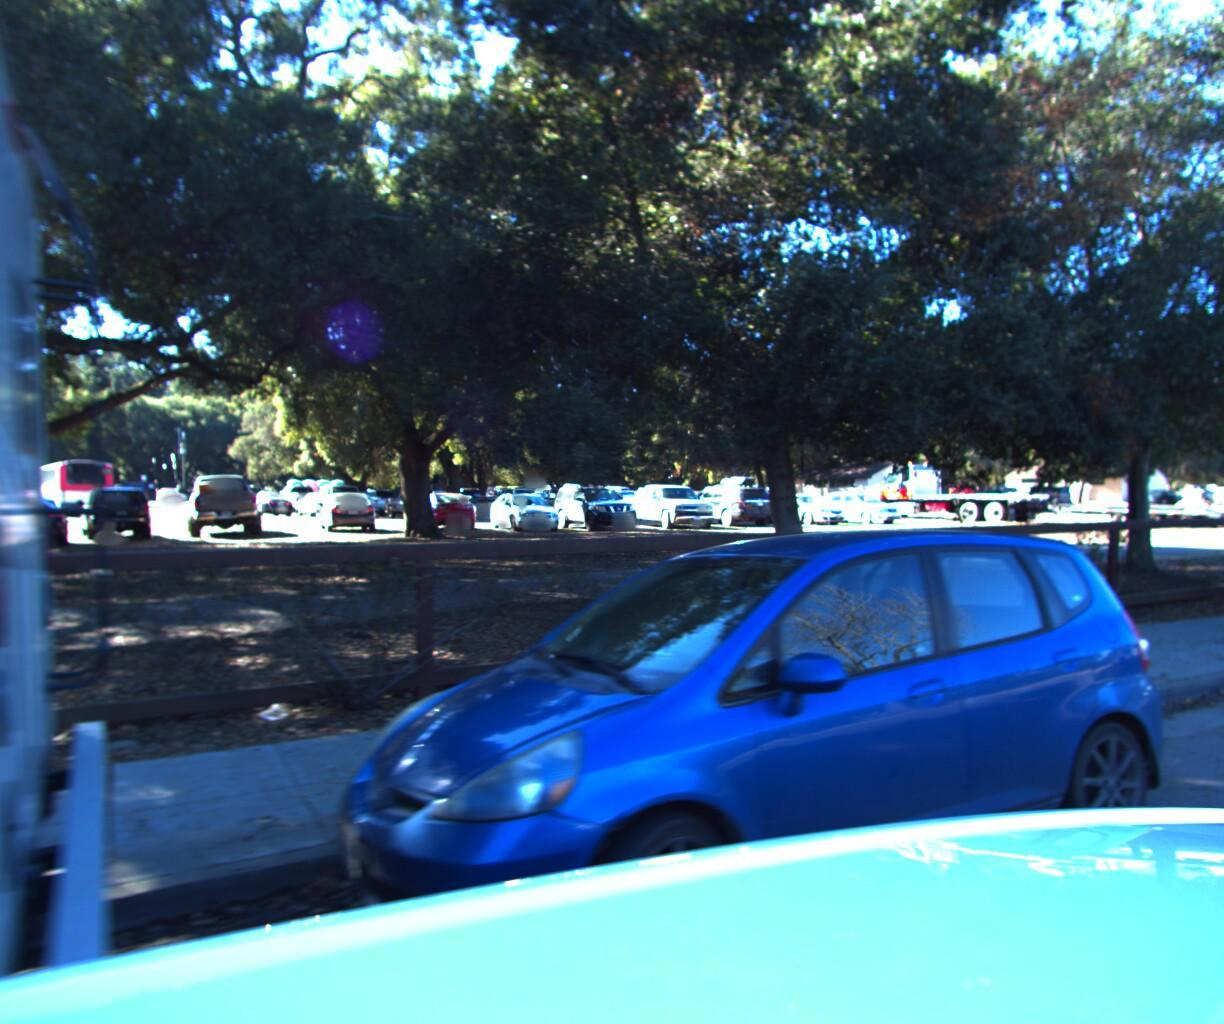car: (291, 509, 1180, 1024)
